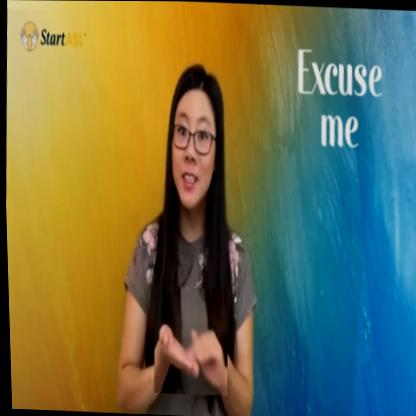ExcuseMe: (149, 286, 229, 395)
